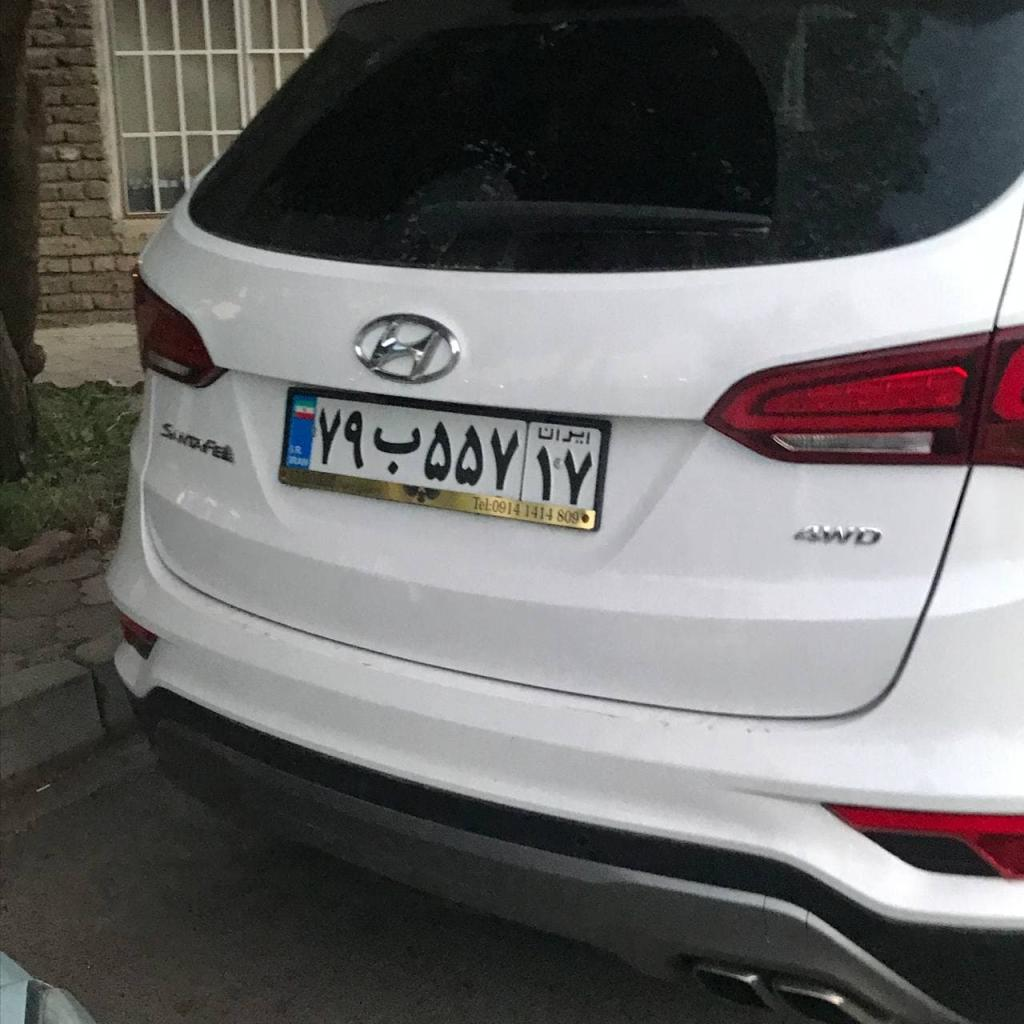Plates: (285, 394, 602, 511)
